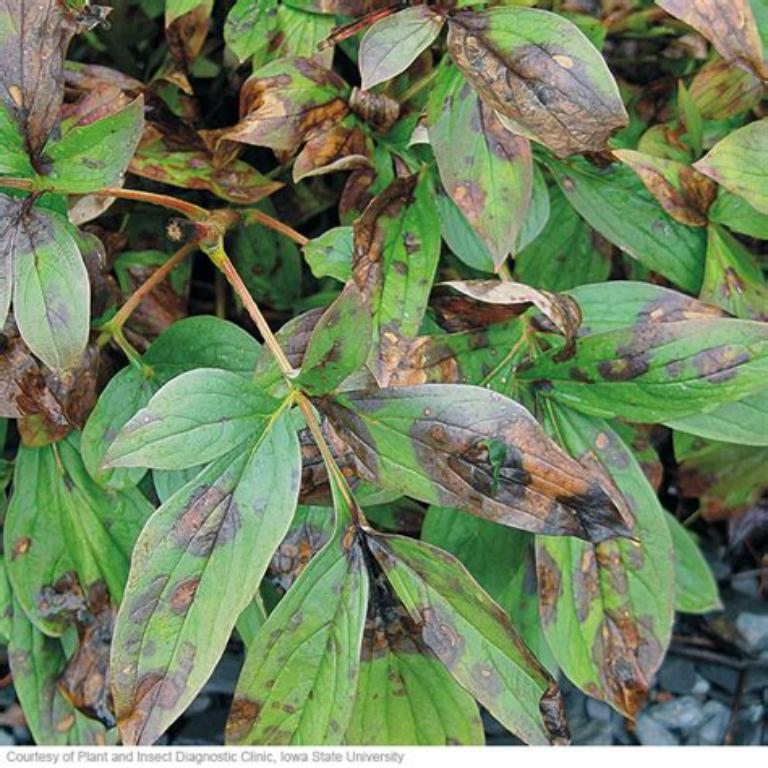blight: (414, 386, 616, 554), (472, 12, 614, 160), (582, 582, 666, 726), (172, 456, 248, 572)
